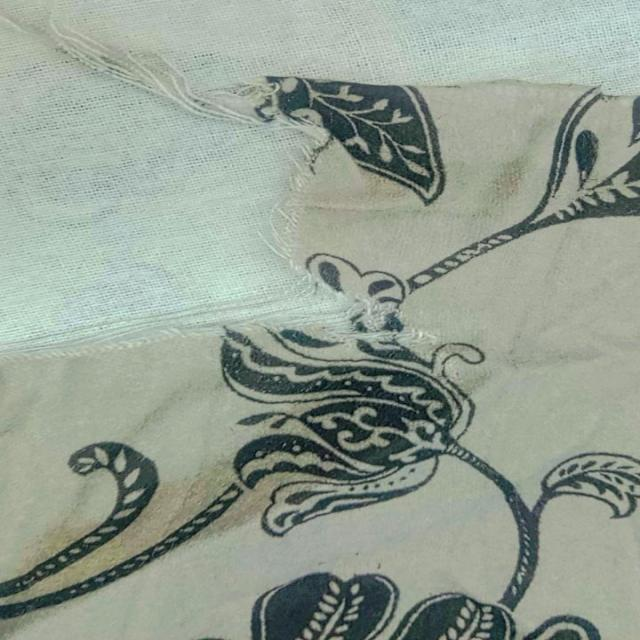cut: (100, 240, 412, 344), (188, 58, 380, 225)
